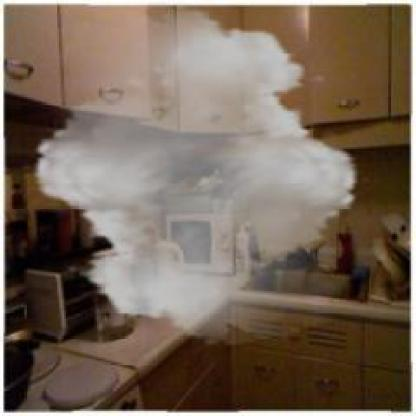Smoke: (20, 2, 372, 345)
